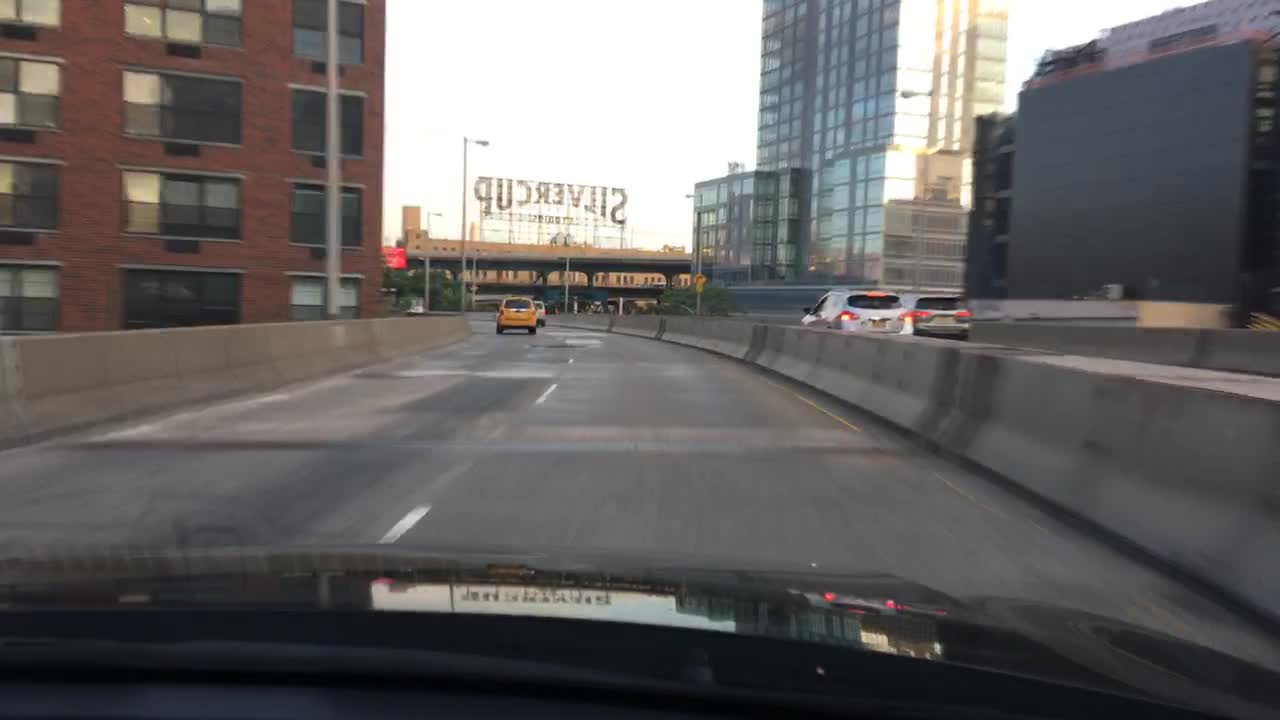car: (801, 285, 908, 340), (902, 293, 973, 339), (492, 294, 538, 334), (532, 301, 547, 324)
traffic sign: (693, 271, 705, 292)
